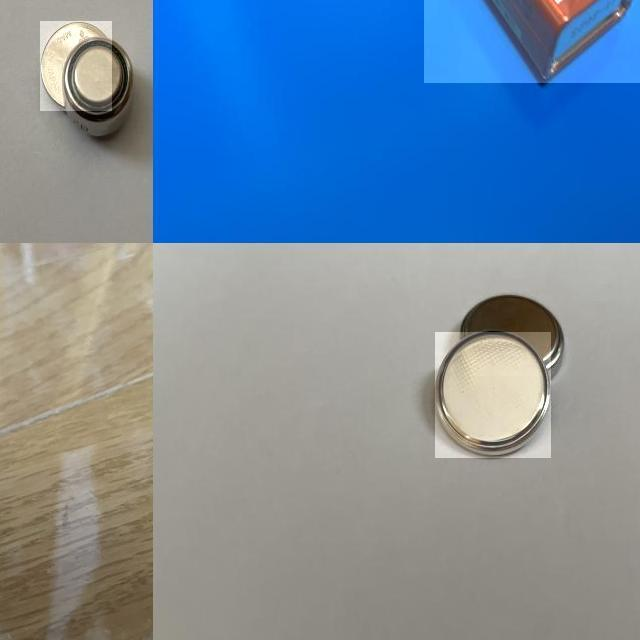9V: (424, 0, 640, 83)
